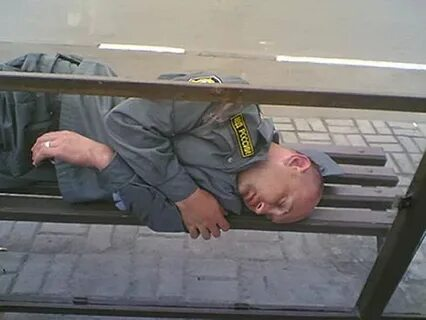sleep: (1, 50, 325, 242)
